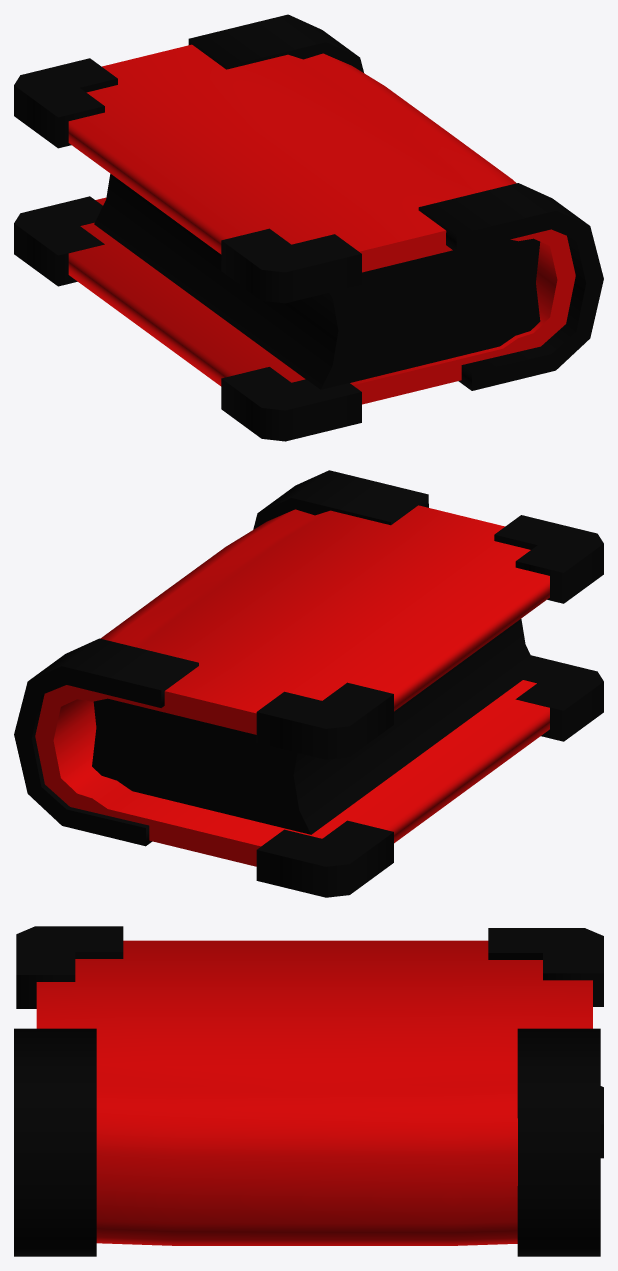
Rendered from Book_K.fbx.
The picture shows the model from 3 angles, top to bottom: view 1: azimuth 30°, elevation 25°; view 2: azimuth 150°, elevation 25°; view 3: azimuth 270°, elevation 25°; orthographic projection. The views are drawn at different scales.
Visible parts, largest first — view 1: U_Book_K; view 2: U_Book_K; view 3: U_Book_K.
Boxes of the visible parts, x1,y1,x2,y2 form: U_Book_K: (14, 14, 603, 441); U_Book_K: (14, 470, 603, 897); U_Book_K: (14, 926, 603, 1256).
Size of the model in its own units: 44.18 by 21.45 by 62.
